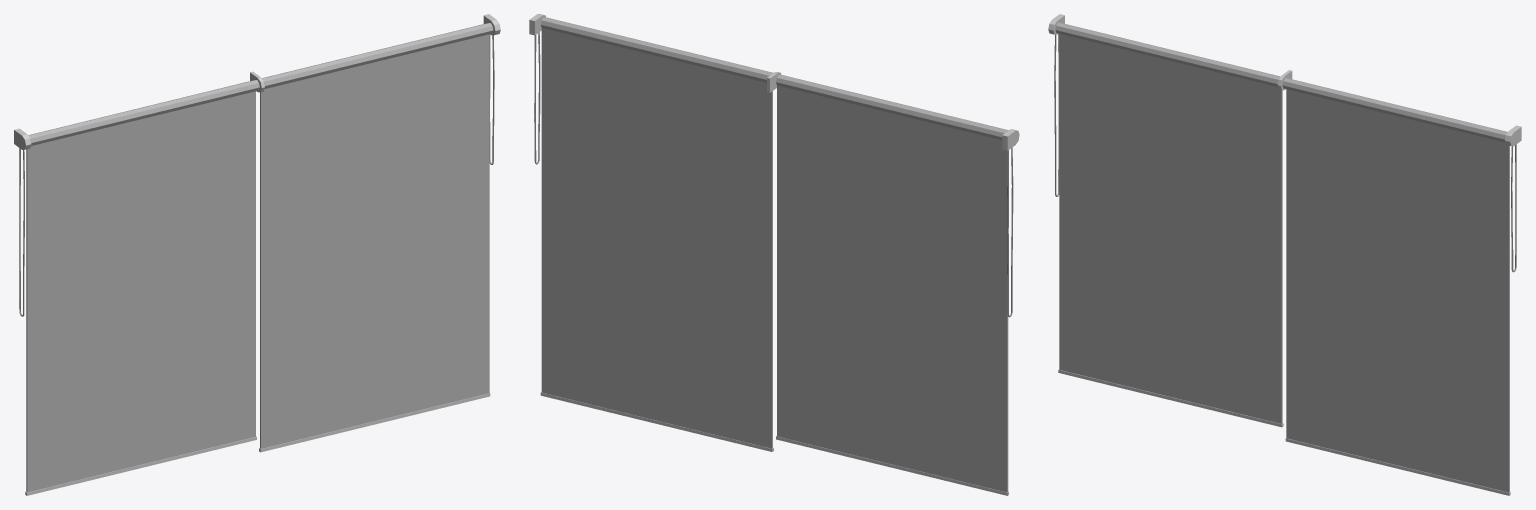
Rendered from Curtains9_C3.fbx.
3 views of the same model, side by side, from view 1: azimuth 30°, elevation 25°; view 2: azimuth 150°, elevation 25°; view 3: azimuth 330°, elevation 25° (orthographic). The views are drawn at different scales.
Parts seen in each view (by area): view 1: Curtains9_C3; view 2: Curtains9_C3; view 3: Curtains9_C3.
Boxes of the visible parts, left/top/right/bottom form: Curtains9_C3: left=14, top=14, right=500, bottom=495; Curtains9_C3: left=529, top=14, right=1019, bottom=495; Curtains9_C3: left=1048, top=14, right=1521, bottom=495.
Size of the model in its own units: 221 by 167 by 9.55.
